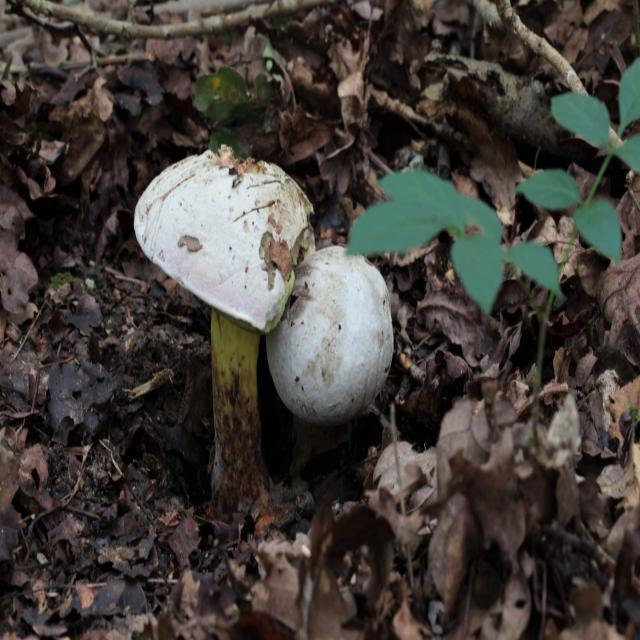Boletus: (134, 146, 307, 494), (268, 250, 396, 424)
